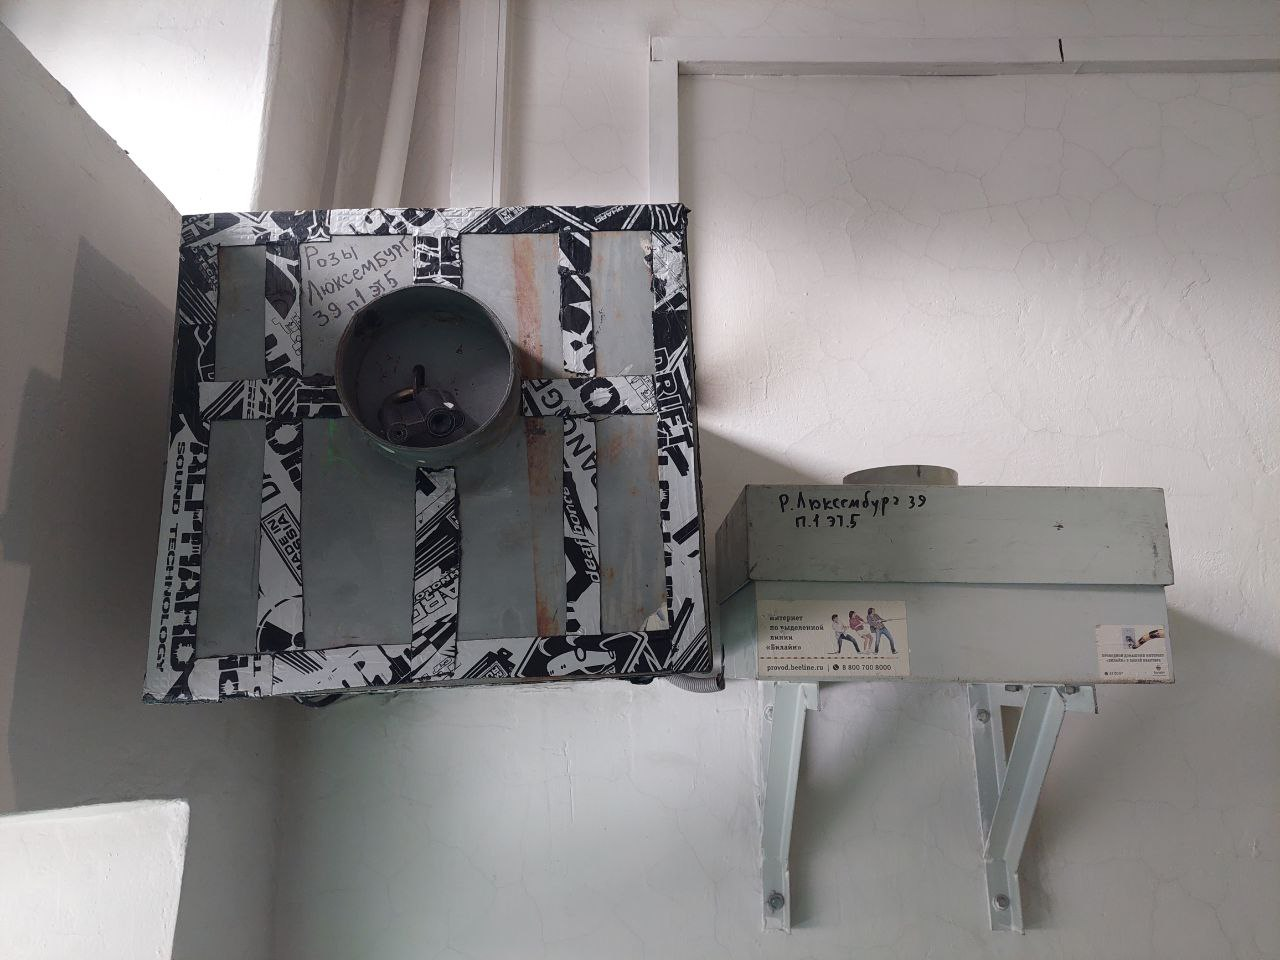shta-9: (134, 202, 713, 702)
shta-ps: (705, 461, 1183, 683)
